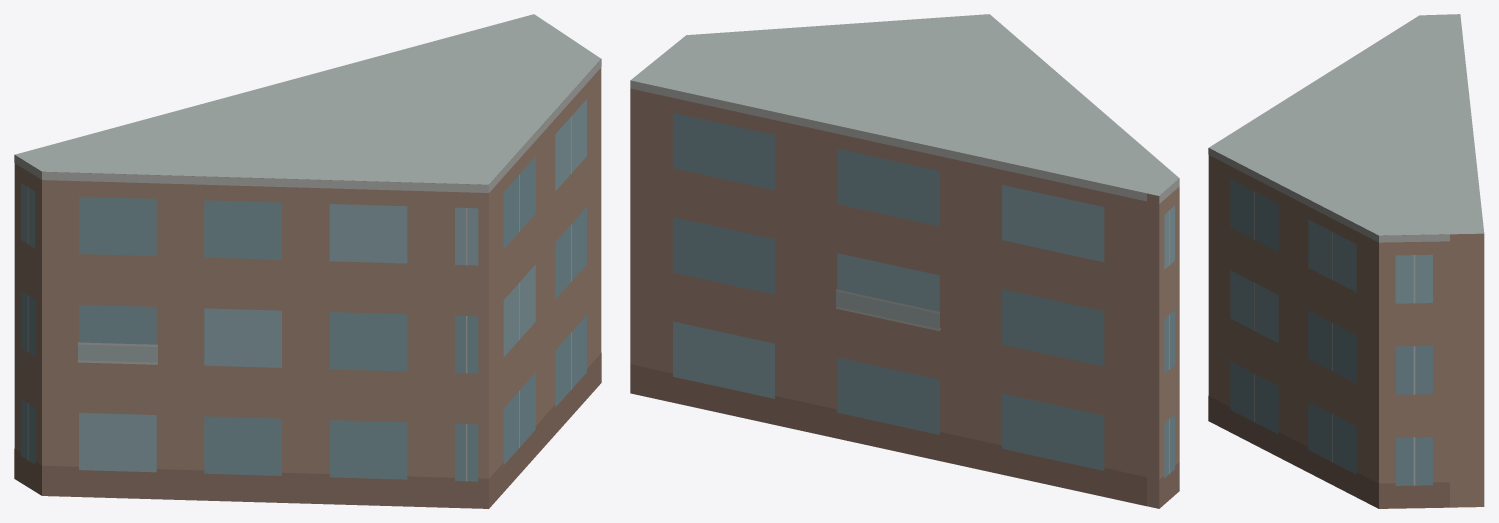
The model's file is survey-upis-32501409.glb.
The picture shows the model from 3 angles, left to right: view 1: azimuth 30°, elevation 25°; view 2: azimuth 150°, elevation 25°; view 3: azimuth 270°, elevation 25°; orthographic projection. The views are drawn at different scales.
Visible parts, largest first — view 1: survey-upis-32501409.tmp; view 2: survey-upis-32501409.tmp; view 3: survey-upis-32501409.tmp.
Part boxes in pixels (x1,y1,x2,y2): survey-upis-32501409.tmp: (14,14,601,508); survey-upis-32501409.tmp: (630,14,1179,508); survey-upis-32501409.tmp: (1208,14,1484,508).
Bounding box in the file's own units: 16.43 × 9.45 × 8.65.
